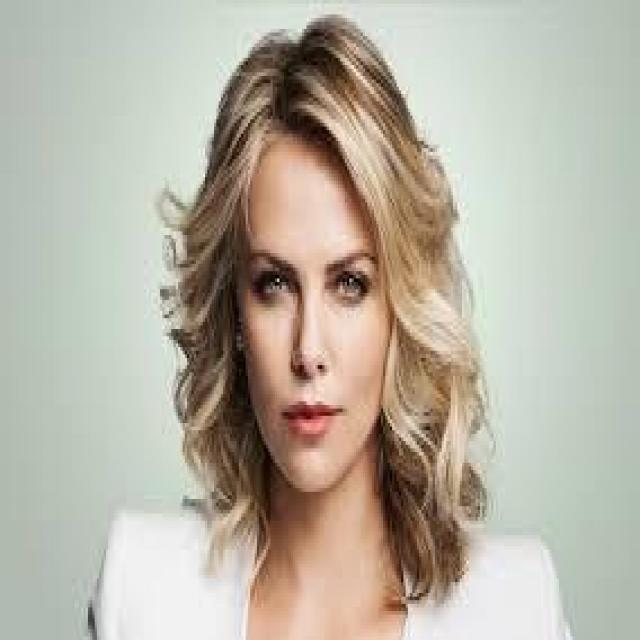person: (110, 26, 572, 636)
